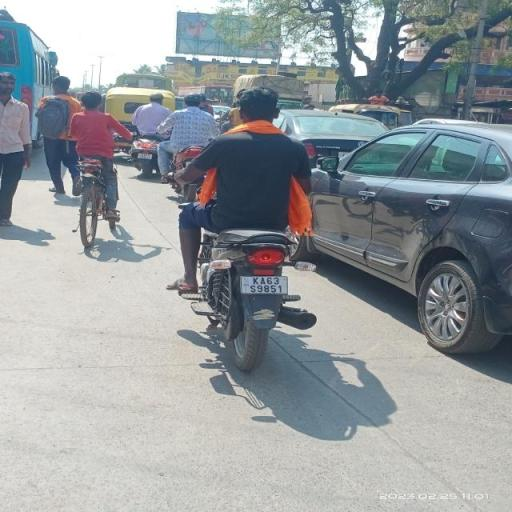bike: (169, 84, 329, 373)
numberplate: (241, 276, 289, 296)
withouthelmet: (238, 88, 279, 122)
